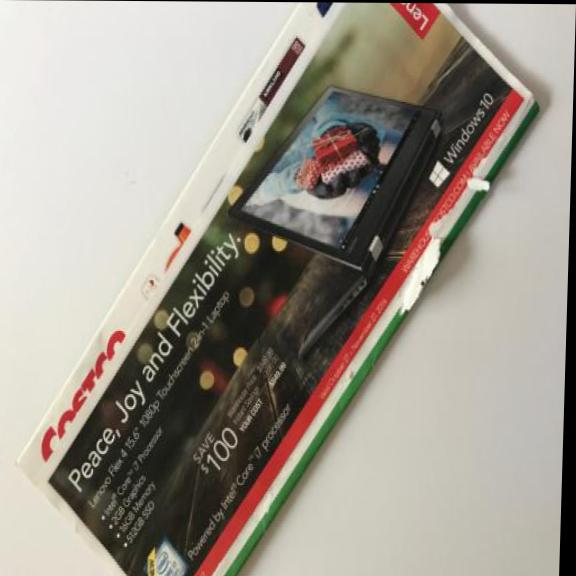Kertas: (6, 0, 550, 576)
